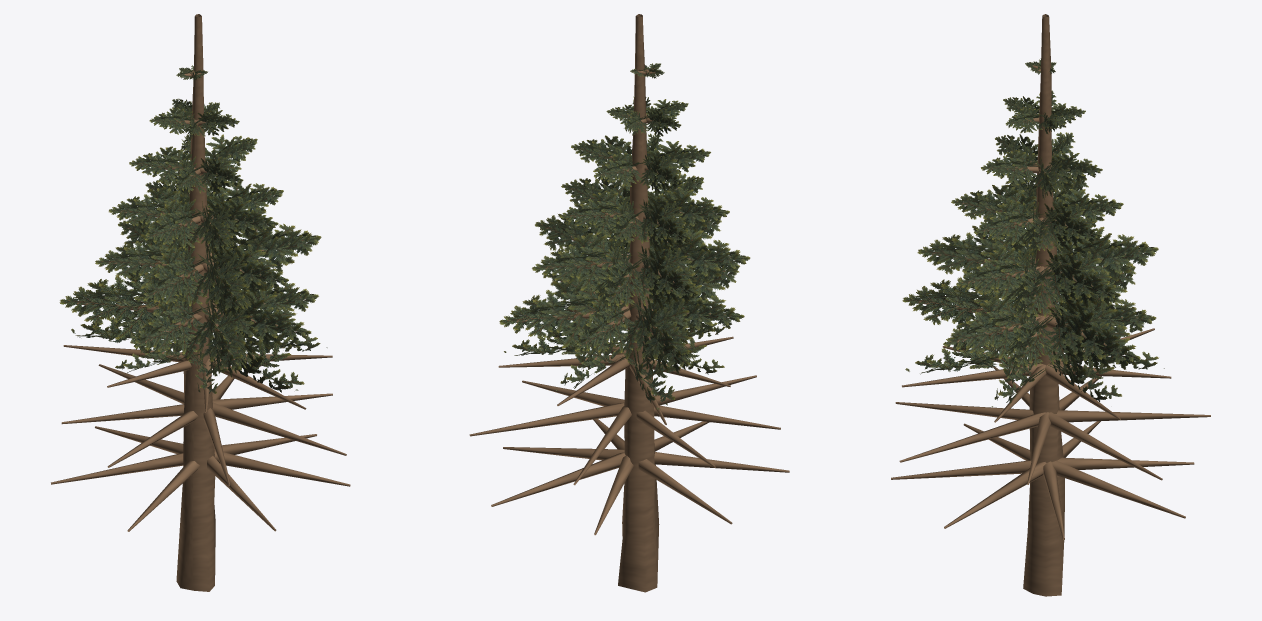
File: pine_young.glb
3 views of the same model, side by side, from view 1: azimuth 30°, elevation 25°; view 2: azimuth 150°, elevation 25°; view 3: azimuth 270°, elevation 25° (orthographic).
Parts seen in each view (by area): view 1: Foliage, Bark; view 2: Foliage, Bark; view 3: Foliage, Bark.
Part boxes in pixels (x1,y1,x2,y2): Foliage: (59, 65, 327, 393); Bark: (51, 14, 350, 591); Foliage: (499, 63, 750, 409); Bark: (469, 14, 789, 592); Foliage: (902, 58, 1164, 407); Bark: (891, 14, 1210, 596).
Size of the model in its own units: 2.66 by 4.5 by 2.84.
Materials: 2 (2 with a texture image).
